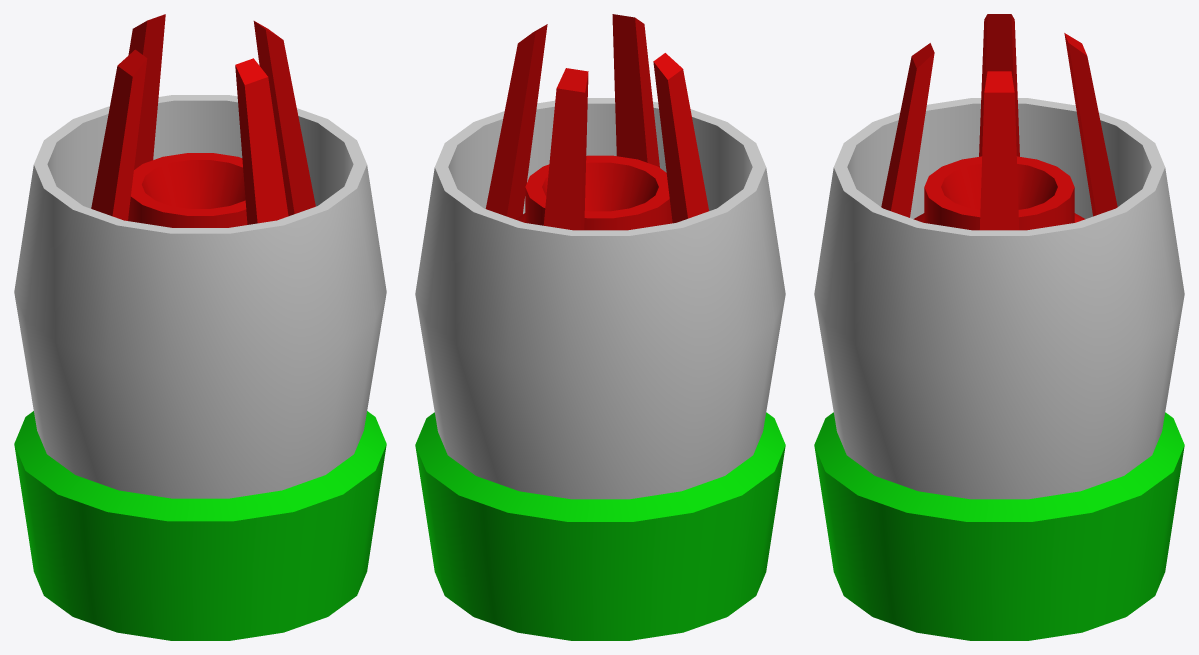
The model's file is Fire_barrell.fbx.
3 views of the same model, side by side, from view 1: azimuth 30°, elevation 25°; view 2: azimuth 150°, elevation 25°; view 3: azimuth 270°, elevation 25° (orthographic).
Visible parts, largest first — view 1: bARRELL; view 2: bARRELL; view 3: bARRELL.
Boxes of the visible parts, box(x1,y1,x2,y2) form: bARRELL: box(14, 14, 386, 640); bARRELL: box(415, 14, 785, 640); bARRELL: box(814, 14, 1184, 640).
Bounding box in the file's own units: 65.39 × 64.4 × 103.
